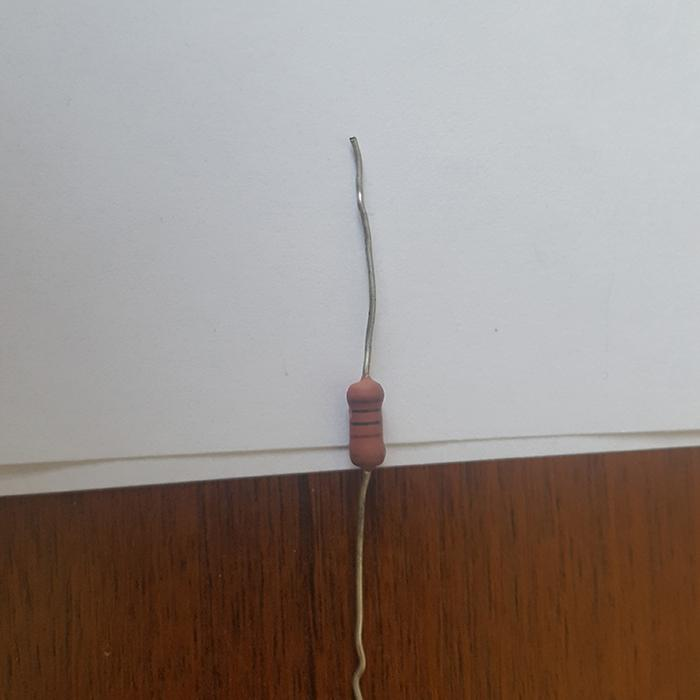resistor: (346, 375, 386, 469)
